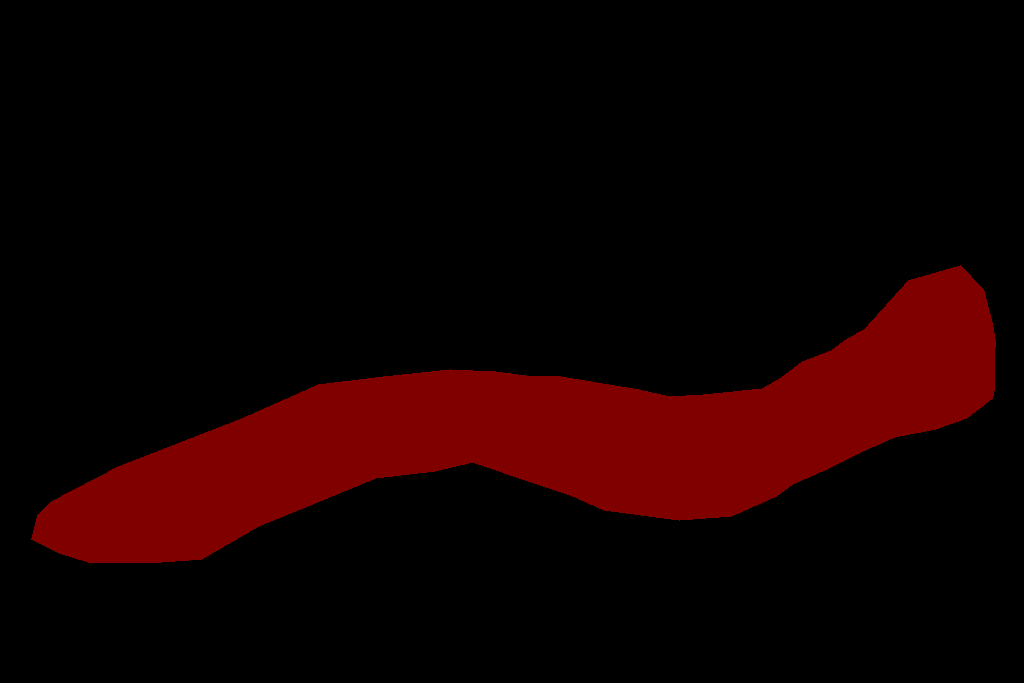fire: (31, 265, 995, 562)
